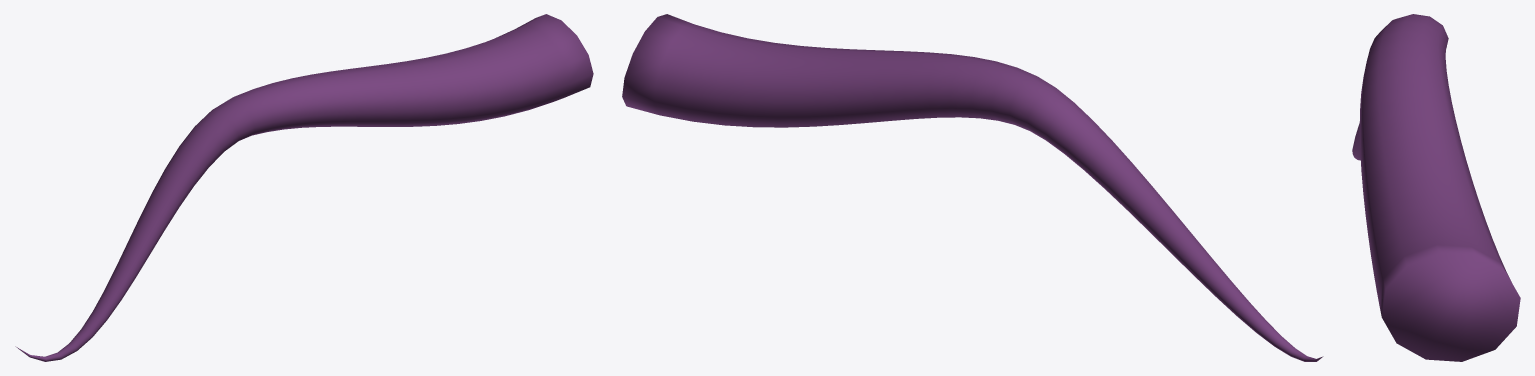
Rendered from tentaculle attaque droite.fbx.
The picture shows the model from 3 angles, left to right: view 1: azimuth 30°, elevation 25°; view 2: azimuth 150°, elevation 25°; view 3: azimuth 270°, elevation 25°; orthographic projection. The views are drawn at different scales.
Visible parts, largest first — view 1: tête.002; view 2: tête.002; view 3: tête.002.
Part boxes in pixels (x1,y1,x2,y2): tête.002: (15,14,593,361); tête.002: (622,14,1323,361); tête.002: (1352,14,1520,361).
Size of the model in its own units: 3.34 by 1.14 by 0.6081.
